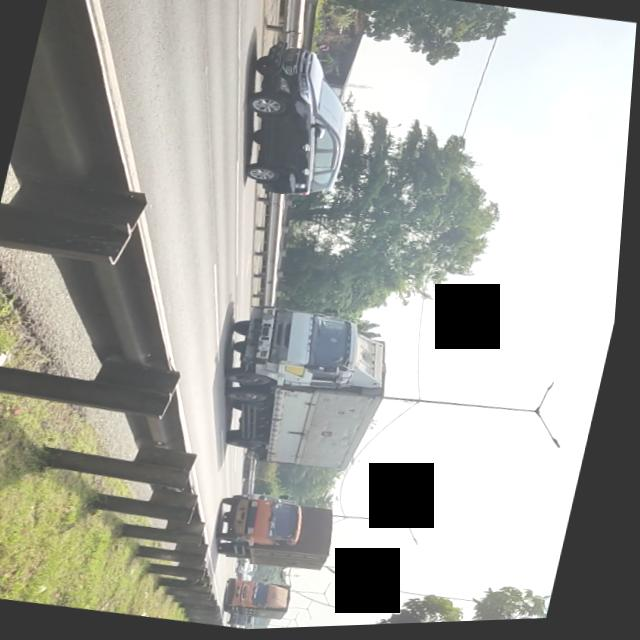Golongan I: (224, 34, 375, 209)
Golongan III: (208, 295, 406, 485)
